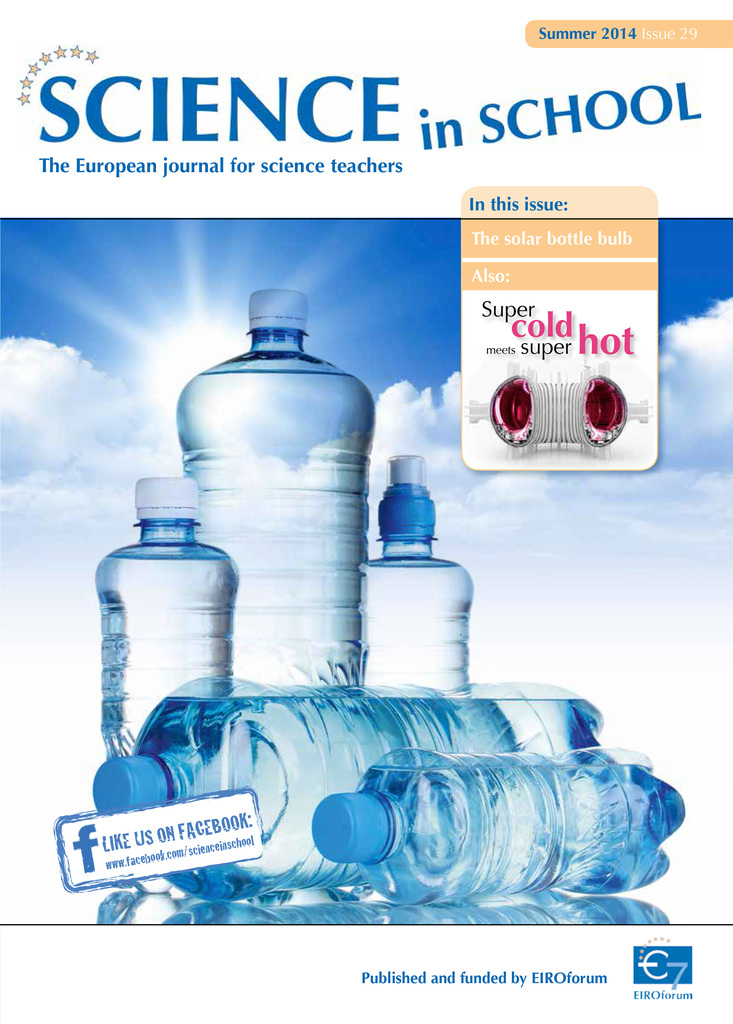can: (88, 286, 686, 907)
